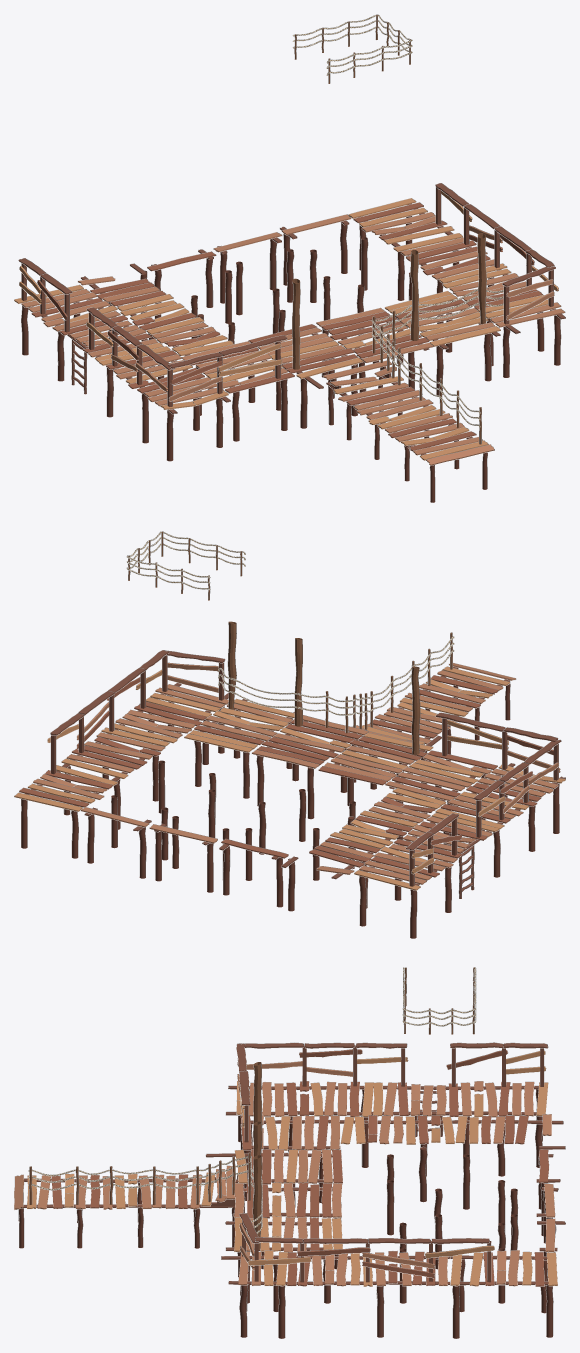
File: hause-bottom.glb
3 renders of one model, top to bottom at view 1: azimuth 30°, elevation 25°; view 2: azimuth 150°, elevation 25°; view 3: azimuth 270°, elevation 25°, orthographic. The views are drawn at different scales.
Parts seen in each view (by area): view 1: Cube.005; view 2: Cube.005; view 3: Cube.005.
Part boxes in pixels (x1=…): Cube.005: x1=14, y1=14, x2=565, y2=502; Cube.005: x1=14, y1=531, x2=565, y2=938; Cube.005: x1=14, y1=967, x2=565, y2=1338.
Bounding box in the file's own units: 19.13 × 12.88 × 21.85.
